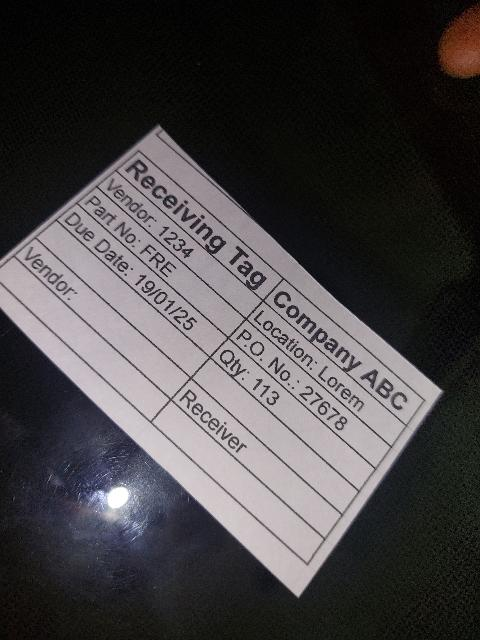PO no: (229, 319, 392, 470)
part no: (77, 187, 247, 338)
qty: (210, 337, 376, 491)
tags: (0, 127, 440, 595)
